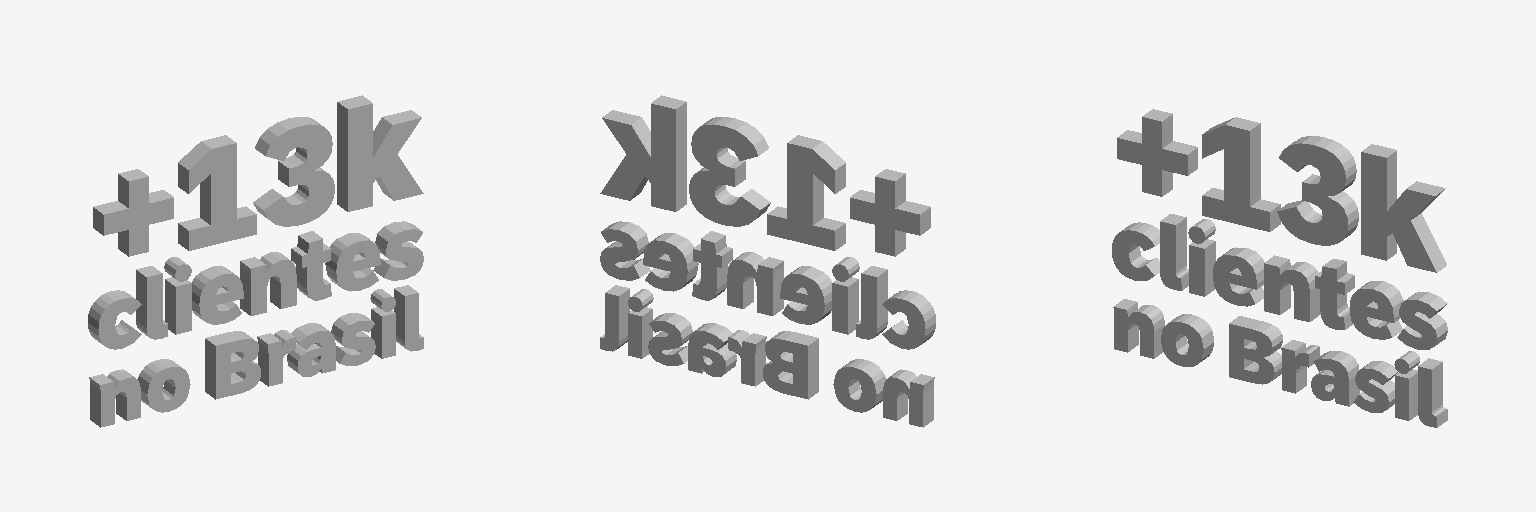
3 renders of one model, left to right at view 1: azimuth 30°, elevation 25°; view 2: azimuth 150°, elevation 25°; view 3: azimuth 330°, elevation 25°, orthographic.
Visible parts, largest first — view 1: obj_0; view 2: obj_0; view 3: obj_0.
Part boxes in pixels (x1,y1,x2,y2): obj_0: (88, 95, 423, 427); obj_0: (600, 95, 935, 427); obj_0: (1112, 109, 1447, 427).
Bounding box in the file's own units: 716 × 543 × 41.